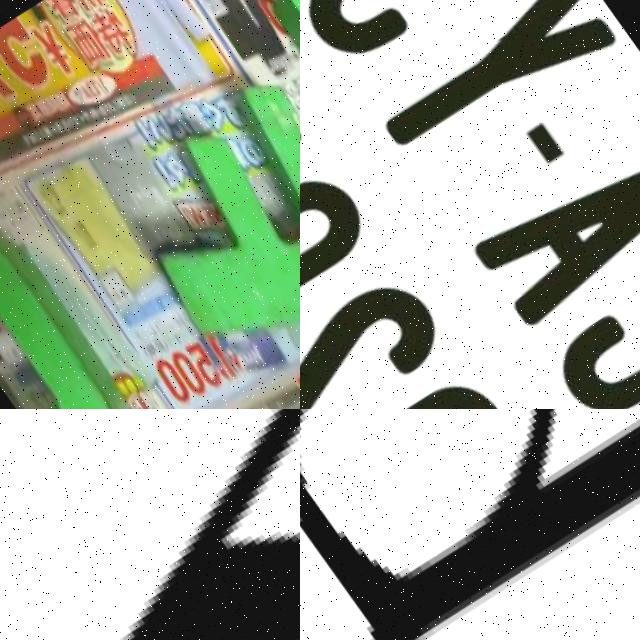2: (300, 264, 458, 409)
A: (446, 100, 640, 330)
B: (300, 409, 640, 640)
C: (518, 215, 640, 409)
F: (78, 62, 300, 398)
G: (300, 158, 385, 383)
S: (300, 0, 568, 78)
Y: (0, 409, 300, 640), (340, 0, 629, 179)
